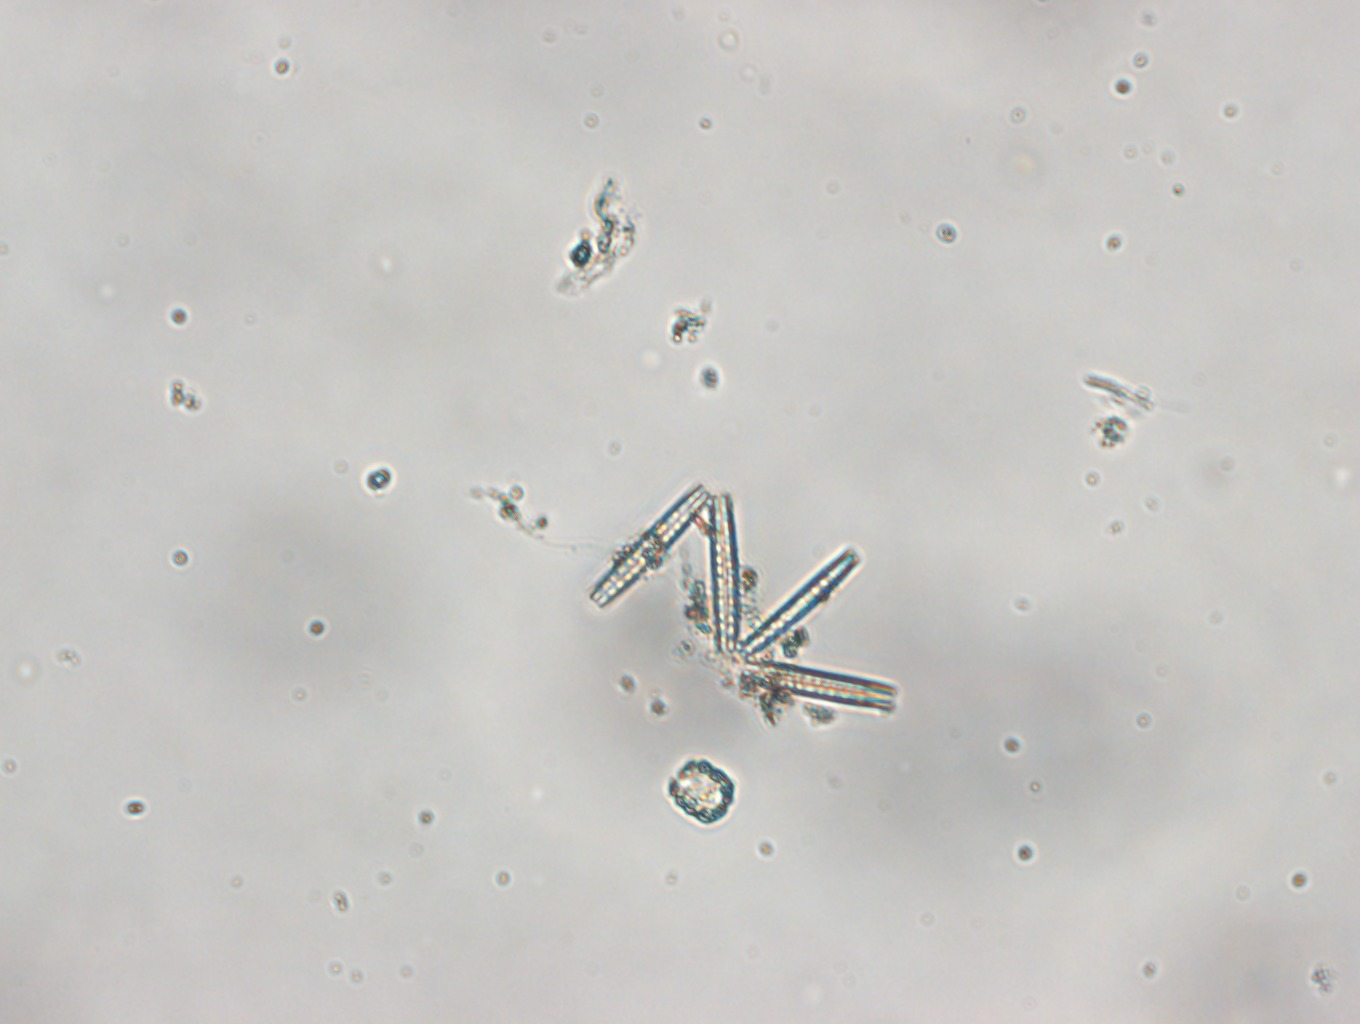thalassionema nitzschioides: (579, 478, 908, 728)
